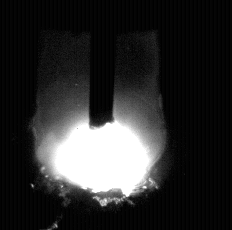arame: (90, 0, 115, 129)
poca: (35, 0, 168, 230)
